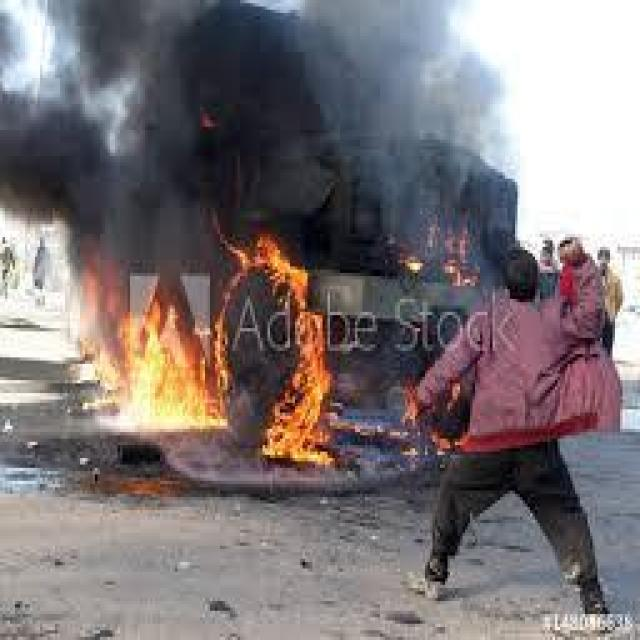fire: (237, 234, 336, 466), (78, 284, 230, 424), (432, 226, 478, 280), (401, 247, 422, 275)
smoke: (2, 0, 520, 231)
